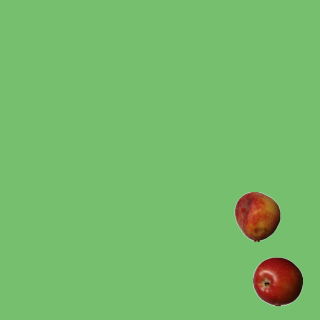Apple Braeburn: (252, 256, 302, 306)
Peach: (232, 191, 282, 241)
